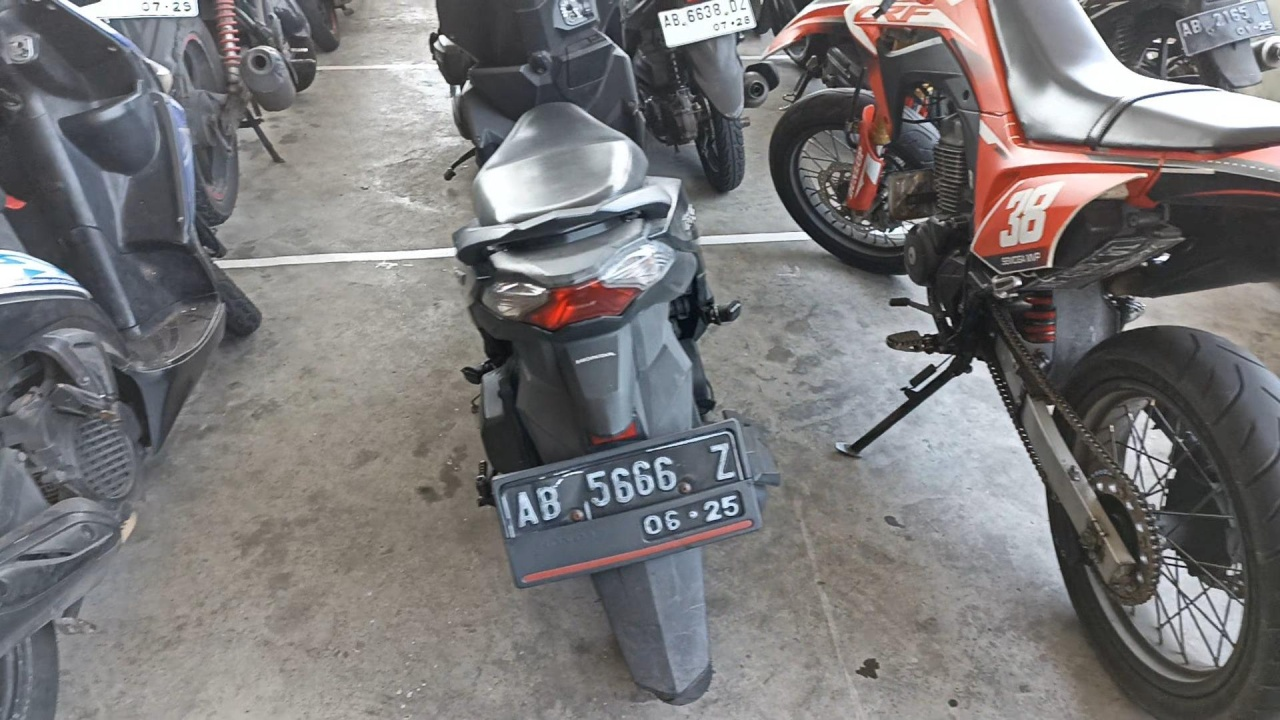plate: (501, 431, 756, 585)
